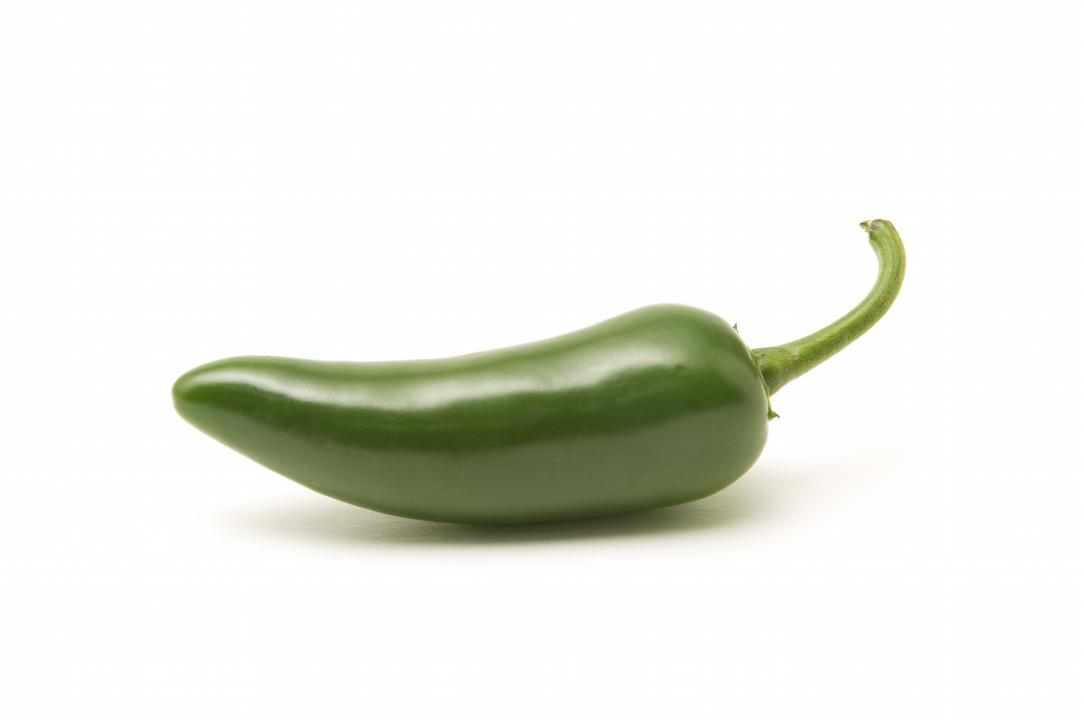jalepeno: (170, 216, 906, 527), (750, 216, 906, 397)
